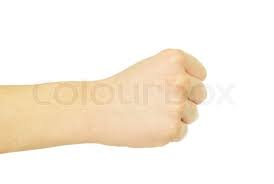fist: (108, 52, 196, 146)
